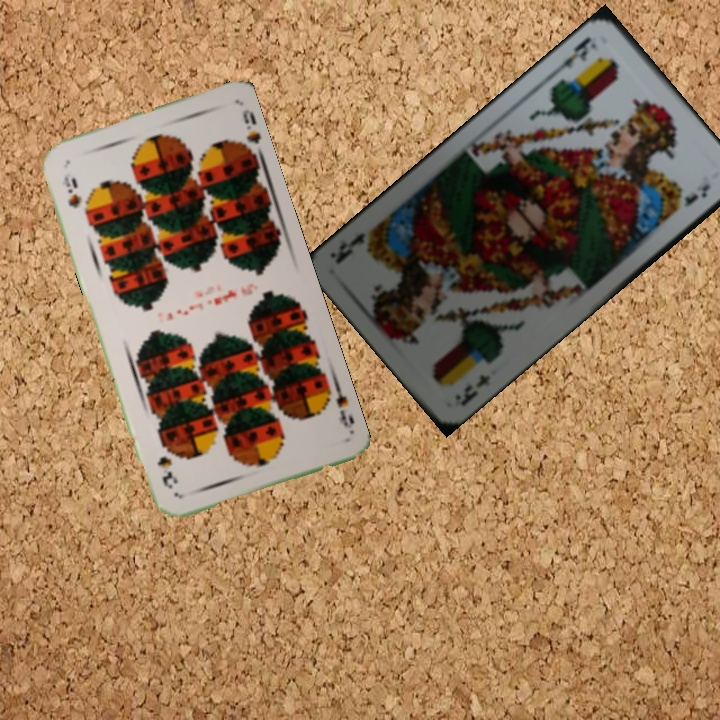EK: (550, 33, 600, 77), (450, 370, 493, 409)
S9: (318, 377, 357, 435), (57, 172, 84, 211)
